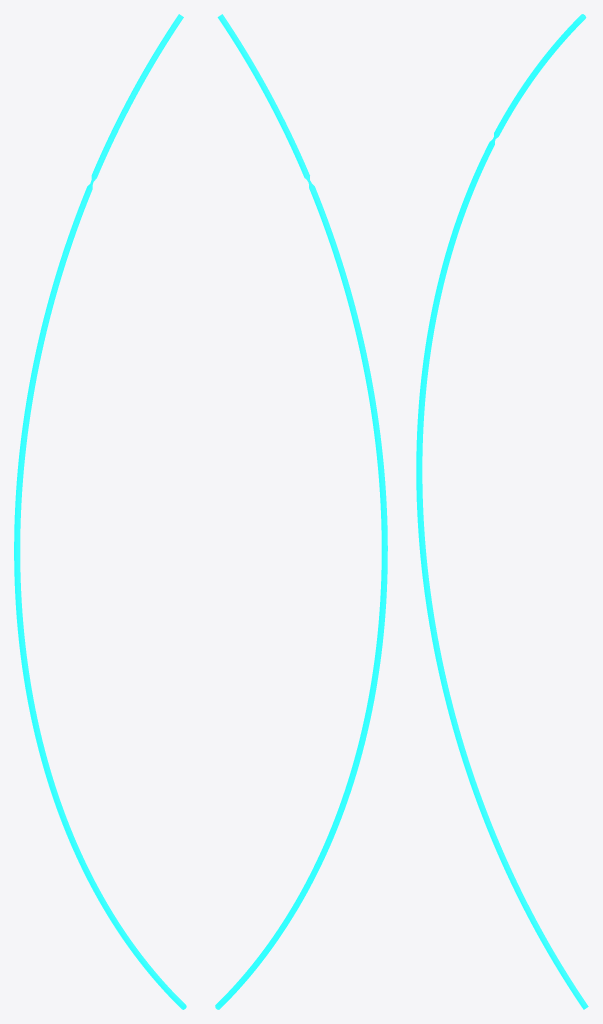
File: SM_RelicSeam_1.fbx
The picture shows the model from 3 angles, left to right: view 1: azimuth 30°, elevation 25°; view 2: azimuth 150°, elevation 25°; view 3: azimuth 330°, elevation 25°; orthographic projection.
Visible parts, largest first — view 1: SM_RelicSeam_1.001; view 2: SM_RelicSeam_1.001; view 3: SM_RelicSeam_1.001.
Boxes of the visible parts, x1=… form: SM_RelicSeam_1.001: x1=14, y1=14, x2=186, y2=1009; SM_RelicSeam_1.001: x1=215, y1=14, x2=387, y2=1009; SM_RelicSeam_1.001: x1=416, y1=14, x2=588, y2=1009.
Size of the model in its own units: 410 by 13 by 2272.
